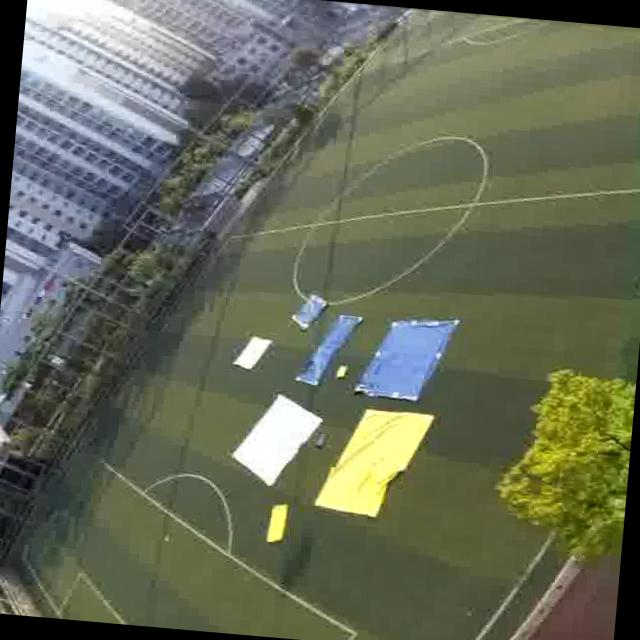danger: (362, 317, 440, 398), (297, 336, 335, 386), (294, 294, 326, 324)
safety: (238, 400, 312, 478), (236, 332, 271, 370)
warning: (326, 408, 408, 512), (264, 494, 293, 538)
